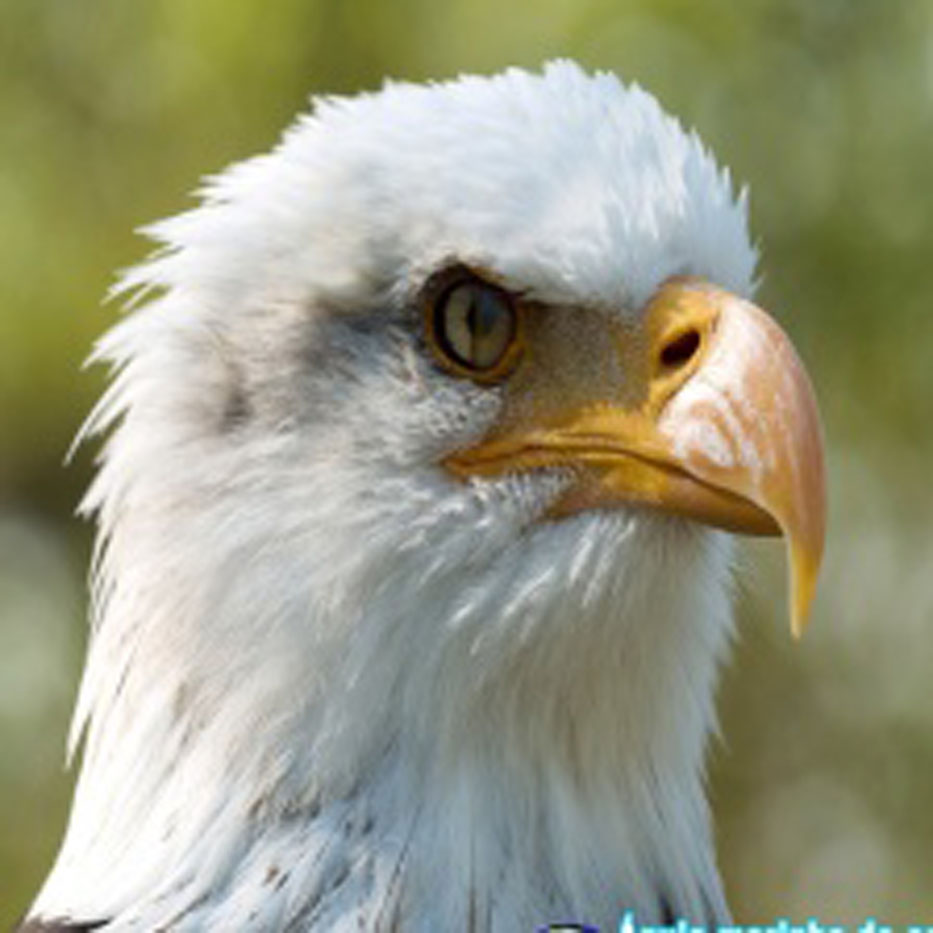Pengoyak Daging: (619, 290, 852, 641)
